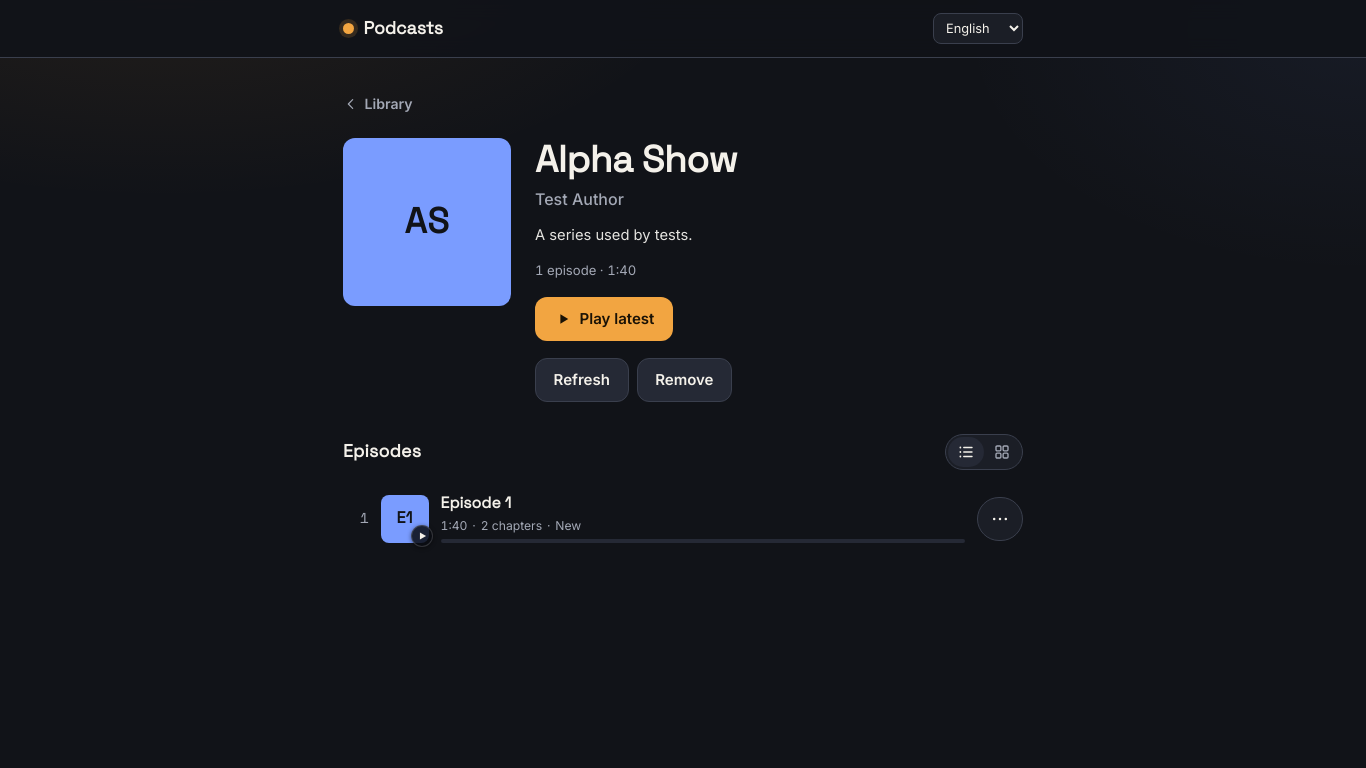
Test: library › removes a podcast from its page
The width and height of the screenshot is (1366, 768).
Click the button "Remove". click: click(684, 380)
box: [636, 358, 732, 402]
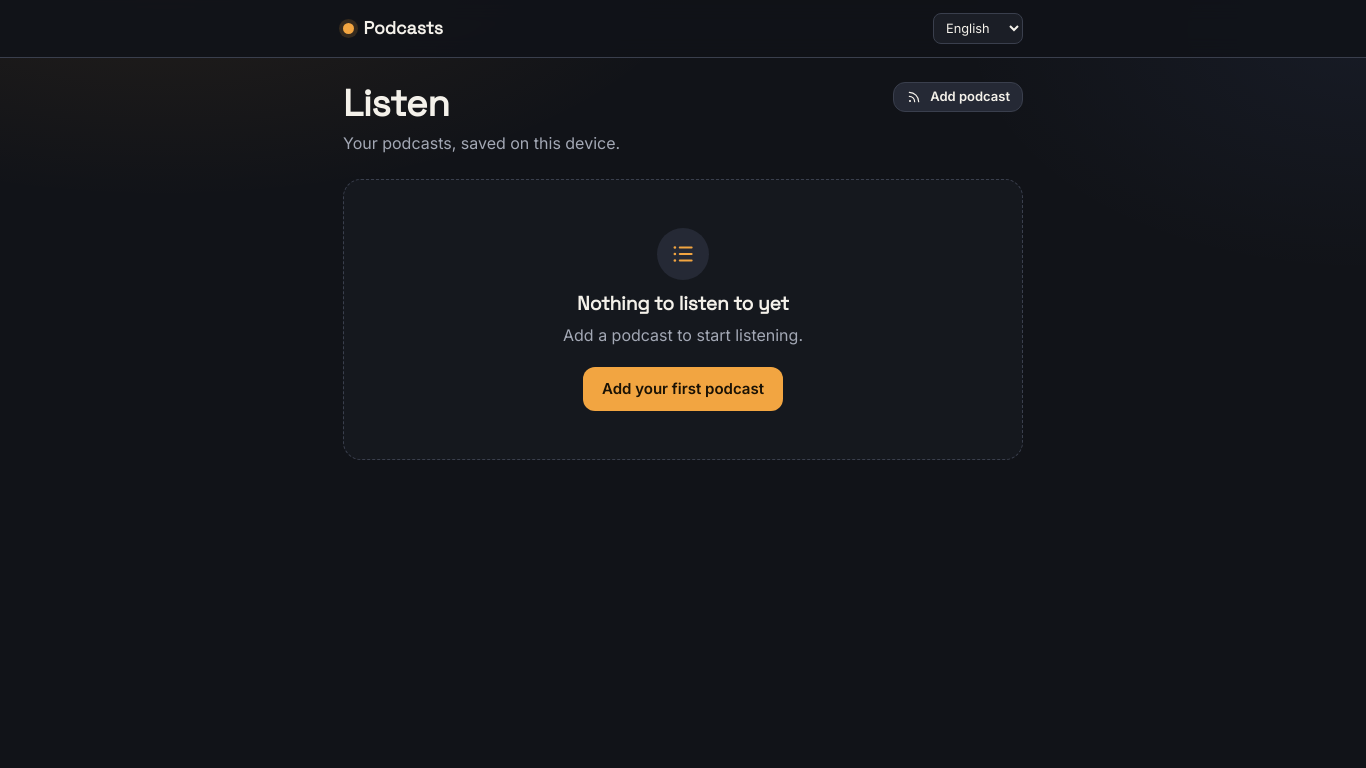
Result: the heading "Nothing to listen to yet" is shown at [577, 292, 789, 314]
